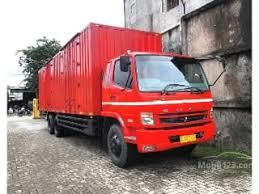truck: (89, 42, 230, 168)
